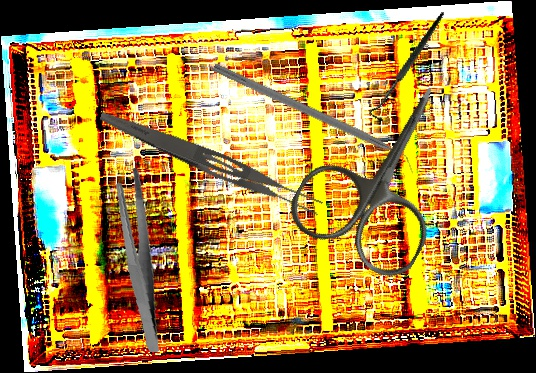Chopper: (206, 62, 421, 178)
Dressing Forceps: (94, 106, 326, 221), (96, 166, 182, 353)
Hook Surgical: (343, 11, 476, 126)
Iris Scissors: (281, 55, 492, 287)
